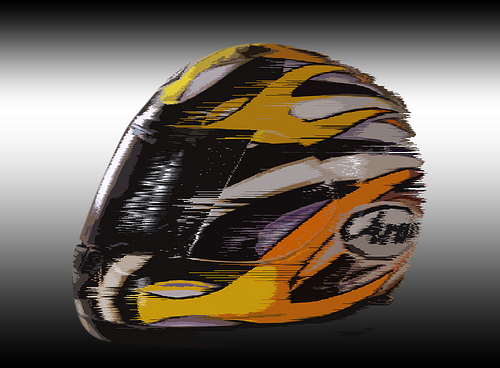helmet: (111, 47, 409, 330)
